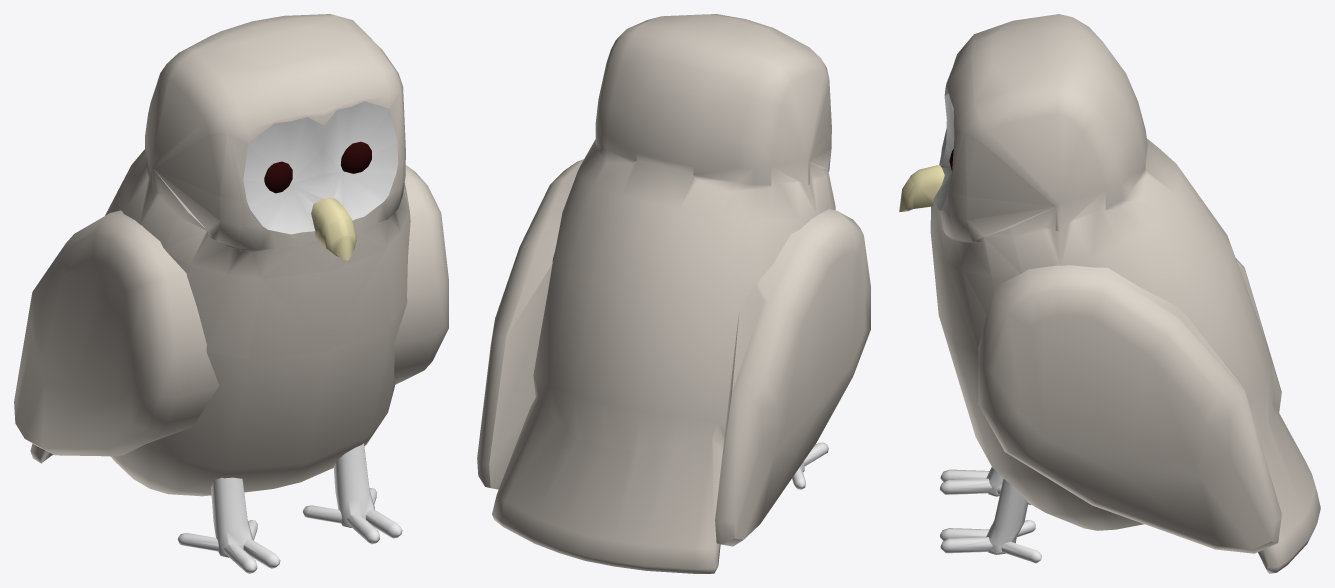
The model's file is final owl spooky tales.fbx.
3 renders of one model, left to right at view 1: azimuth 30°, elevation 25°; view 2: azimuth 150°, elevation 25°; view 3: azimuth 270°, elevation 25°, orthographic. The views are drawn at different scales.
Visible parts, largest first — view 1: 3d-model; view 2: 3d-model; view 3: 3d-model.
Boxes of the visible parts, x1,y1,x2,y2 form: 3d-model: [14, 14, 448, 573]; 3d-model: [477, 14, 870, 573]; 3d-model: [899, 14, 1320, 573].
Bounding box in the file's own units: 93.98 × 141 × 113.
